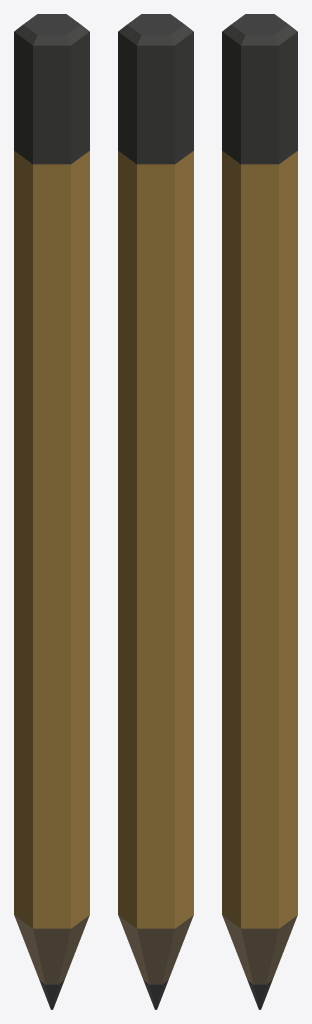
File: SM_Props_Interior_Generic_Office_Pencil.fbx
3 renders of one model, left to right at view 1: azimuth 90°, elevation 25°; view 2: azimuth 150°, elevation 25°; view 3: azimuth 270°, elevation 25°, orthographic.
Parts seen in each view (by area): view 1: SM_Props_Interior_Generic_Office_Pencil; view 2: SM_Props_Interior_Generic_Office_Pencil; view 3: SM_Props_Interior_Generic_Office_Pencil.
Boxes of the visible parts, x1,y1,x2,y2 form: SM_Props_Interior_Generic_Office_Pencil: (14,14,89,1009); SM_Props_Interior_Generic_Office_Pencil: (118,14,193,1009); SM_Props_Interior_Generic_Office_Pencil: (222,14,297,1009).
Size of the model in its own units: 1.22 by 20.23 by 1.41.
